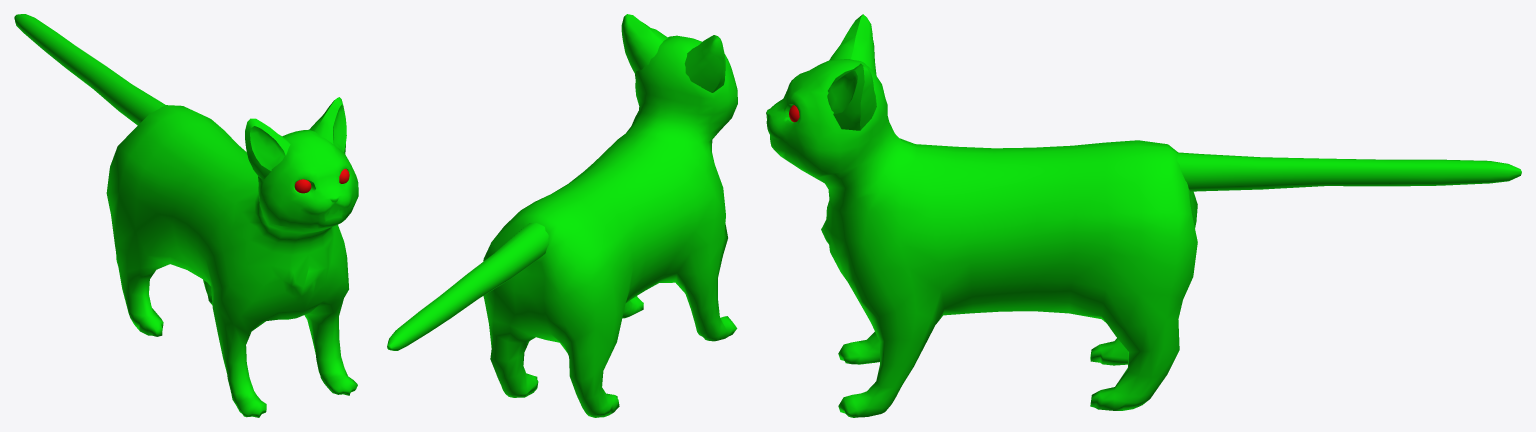
The model's file is Cat_Regular_V2_RetopedandUV.fbx.
3 renders of one model, left to right at view 1: azimuth 30°, elevation 25°; view 2: azimuth 150°, elevation 25°; view 3: azimuth 270°, elevation 25°, orthographic. The views are drawn at different scales.
Parts seen in each view (by area): view 1: bodyMed_low, tailLong_low, earStandard_low, eyes_low; view 2: bodyMed_low, tailLong_low, earStandard_low; view 3: bodyMed_low, tailLong_low, earStandard_low.
Part boxes in pixels (x1=…): bodyMed_low: x1=106, y1=105, x2=358, y2=417; tailLong_low: x1=14, y1=14, x2=165, y2=125; earStandard_low: x1=245, y1=97, x2=346, y2=179; eyes_low: x1=294, y1=168, x2=349, y2=193; bodyMed_low: x1=483, y1=35, x2=737, y2=417; tailLong_low: x1=387, y1=223, x2=548, y2=350; earStandard_low: x1=621, y1=14, x2=725, y2=92; bodyMed_low: x1=766, y1=59, x2=1197, y2=417; tailLong_low: x1=1177, y1=152, x2=1521, y2=191; earStandard_low: x1=827, y1=14, x2=876, y2=130.
Bounding box in the file's own units: 28.1 × 126 × 64.19.
